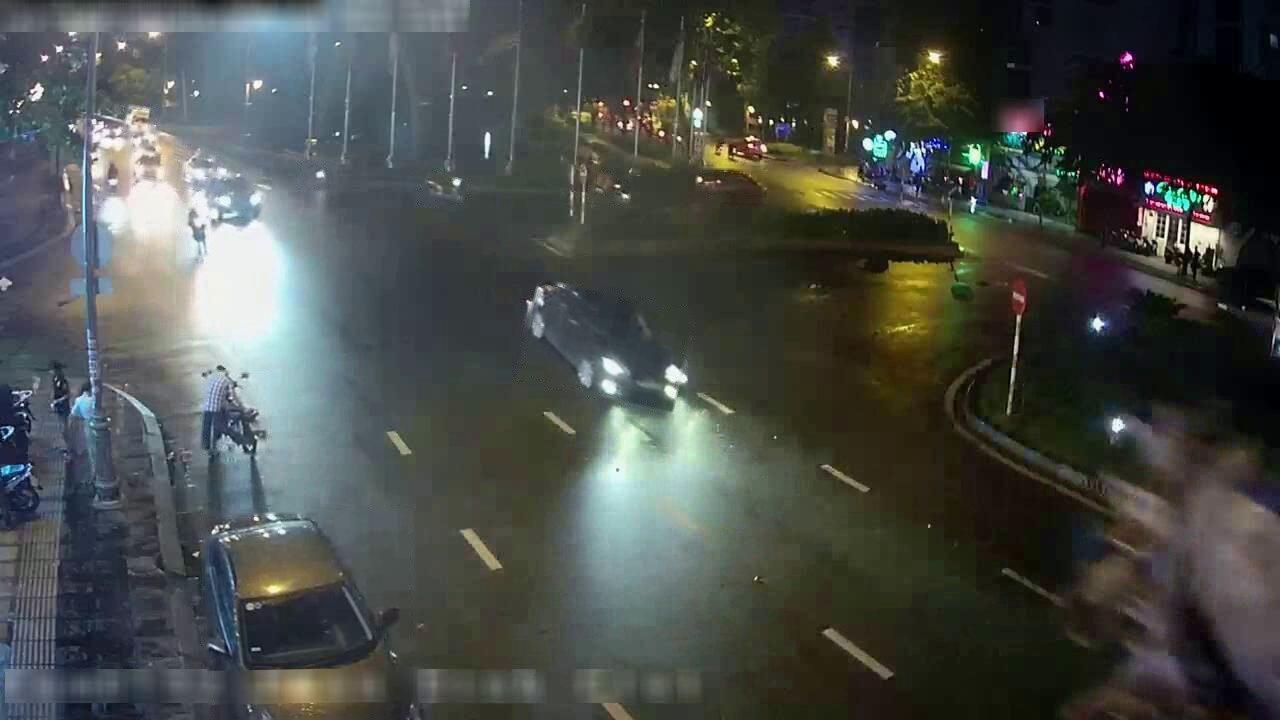Car: (202, 514, 382, 669), (525, 282, 687, 407), (207, 177, 261, 223), (695, 170, 764, 203), (184, 152, 219, 187), (728, 137, 767, 161), (132, 151, 162, 181), (129, 124, 156, 146)
Motorcycle: (0, 463, 40, 525)
Motorcyclist: (201, 366, 266, 454), (423, 174, 464, 206), (187, 207, 208, 259), (594, 174, 630, 202), (300, 162, 327, 189), (104, 161, 120, 195)
Pedestrian: (1190, 248, 1200, 281)
Sign: (1011, 278, 1027, 315)
Truck: (124, 105, 151, 131)
